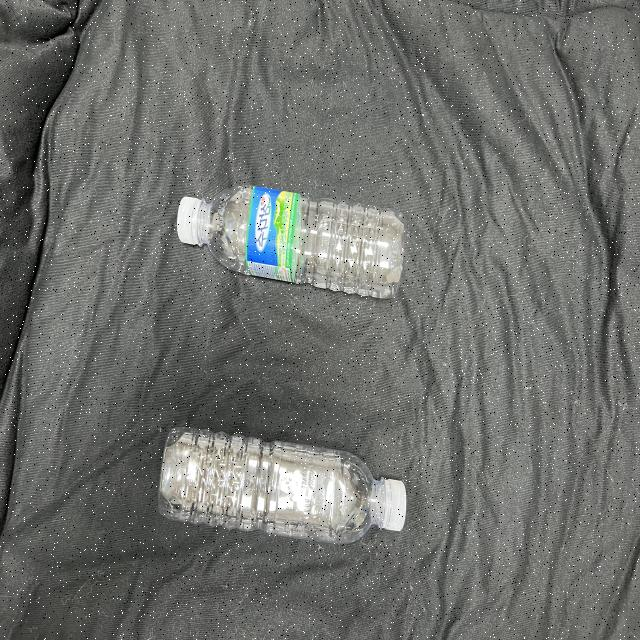plastic: (141, 409, 417, 560), (160, 168, 418, 300)
